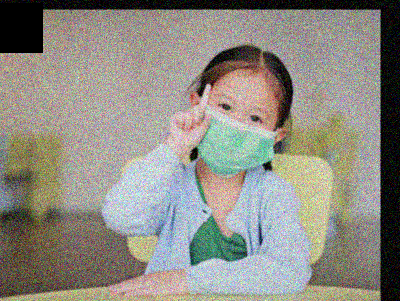with_mask: (201, 91, 277, 172)
